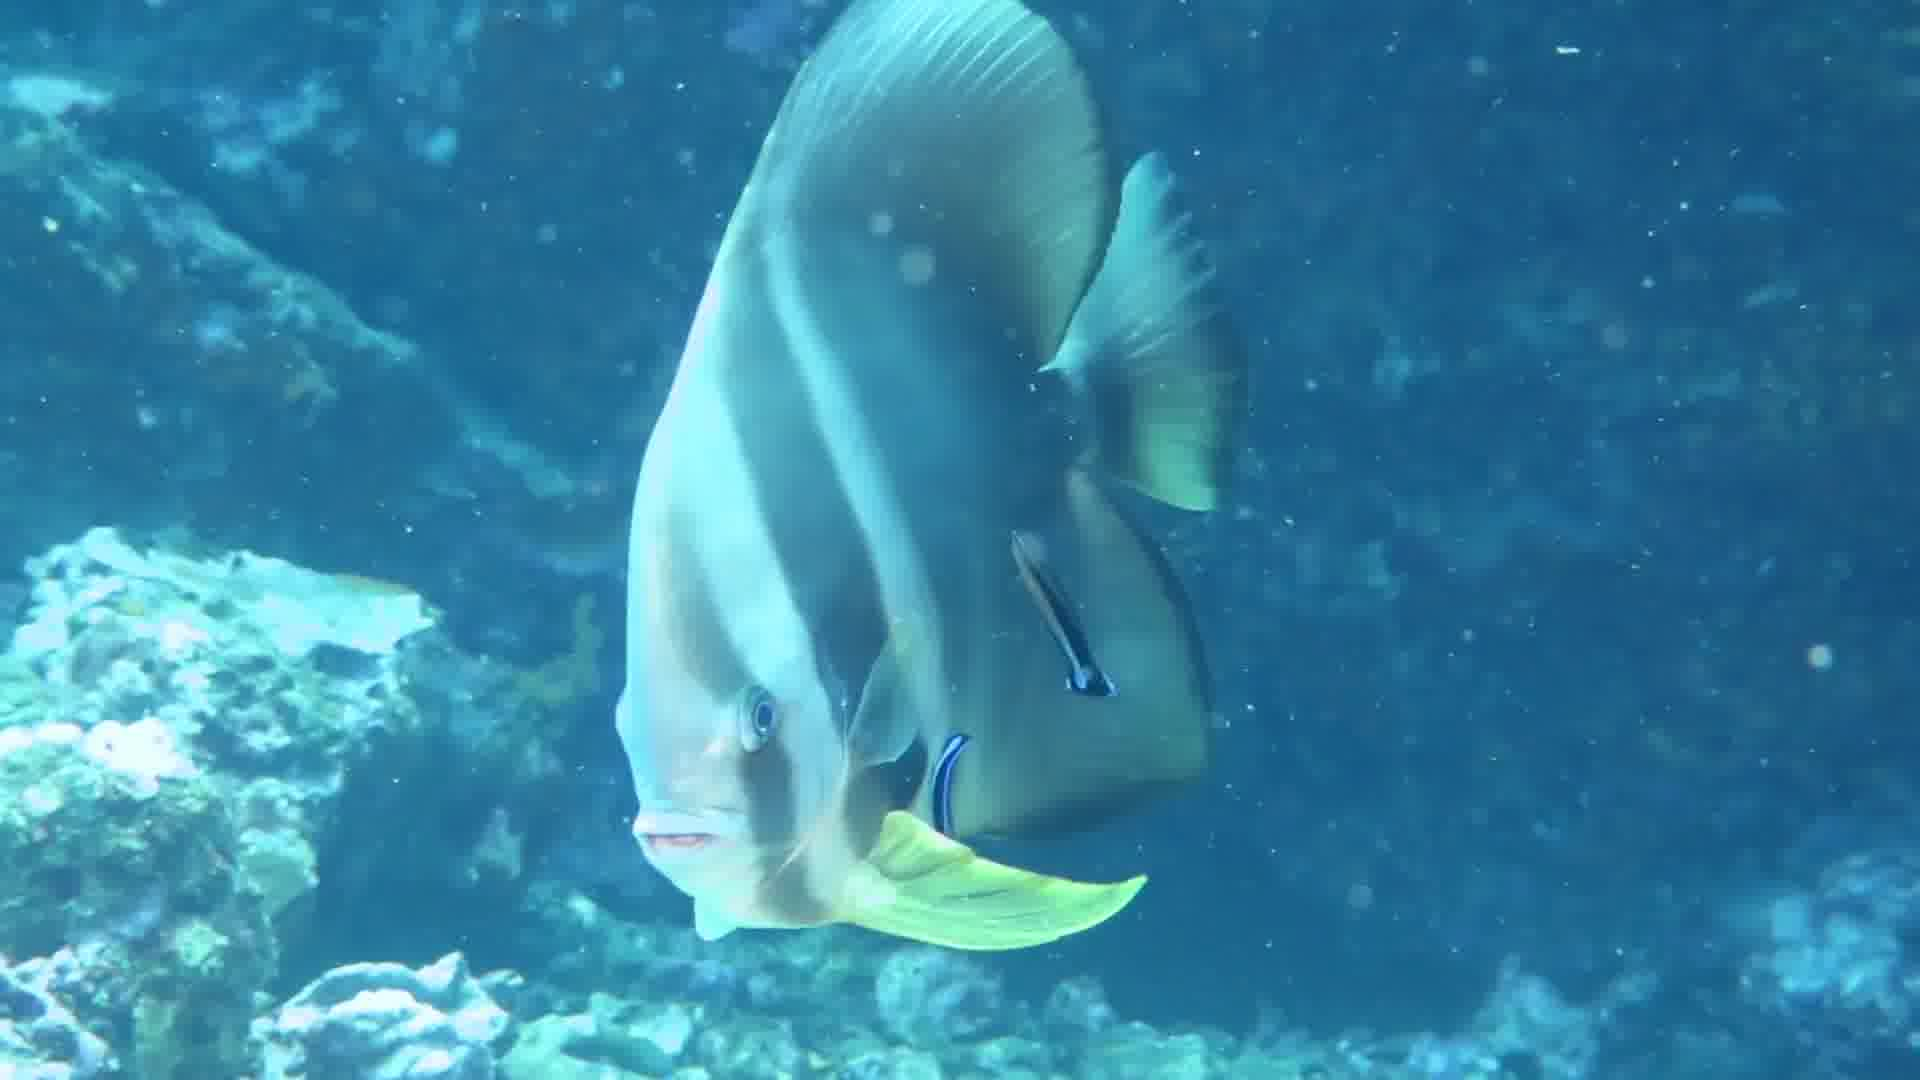Platax teira: (498, 1, 1323, 1046)
